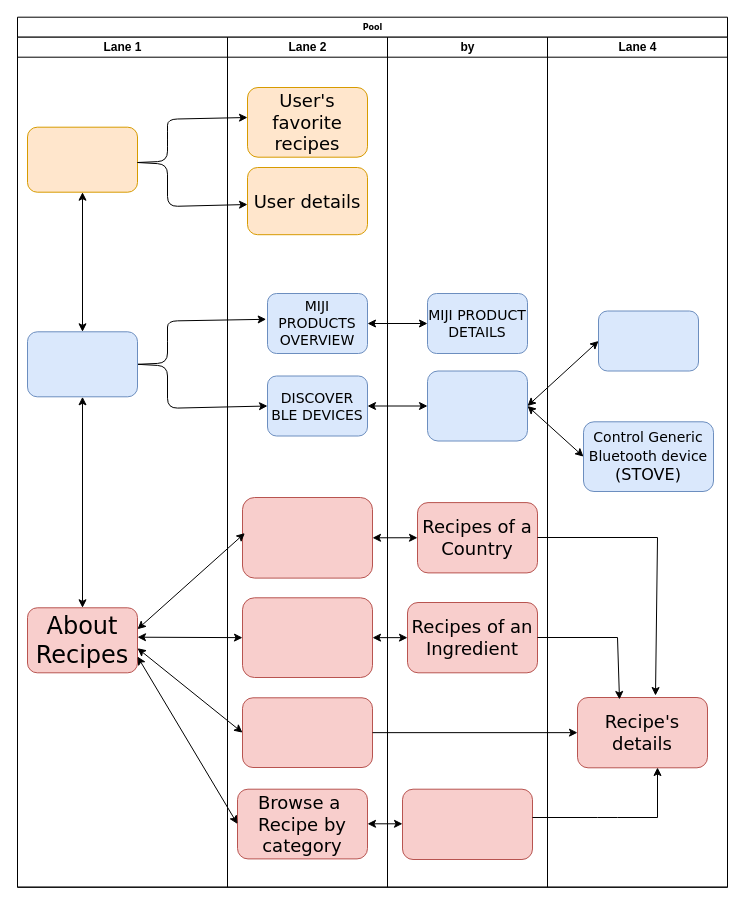
Some shapes in this 745 by 905 pixel diagram are drawn without their labels. The centre of each missing label's shape, as x and y in pixels:
"About Me" goes at point 82,159.
"About Miji" goes at point 82,364.
"Browse a random Recipe" goes at point 307,732.
"Browse recipes By Country" goes at point 307,537.
"Browse recipes By Ingredient" goes at point 307,637.
"Control Miji Temperature Sensor" goes at point 648,340.
"Recipes of a category" goes at point 467,824.
"SCAN BLUETOOTH LOW ENERGY DEVICES" goes at point 477,405.
